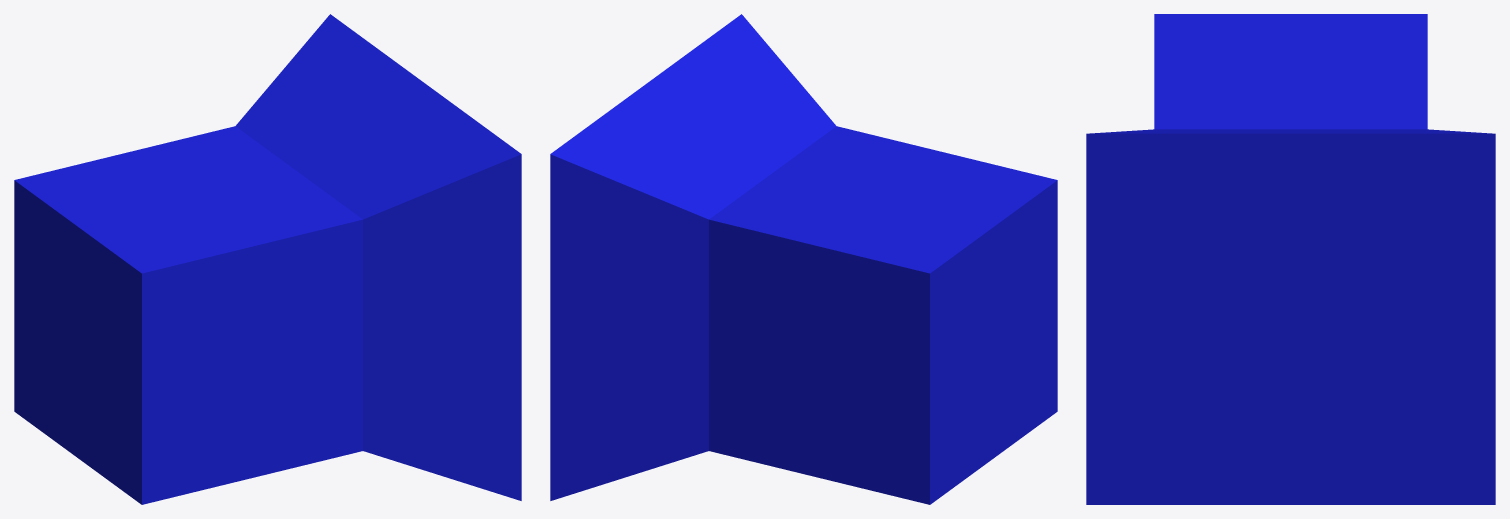
File: Speaker.obj
3 views of the same model, side by side, from view 1: azimuth 30°, elevation 25°; view 2: azimuth 150°, elevation 25°; view 3: azimuth 270°, elevation 25° (orthographic). The views are drawn at different scales.
Parts seen in each view (by area): view 1: Cube.001, Cube; view 2: Cube.001, Cube; view 3: Cube, Cube.001.
Boxes of the visible parts, x1,y1,x2,y2 form: Cube.001: (14, 126, 362, 504); Cube: (235, 14, 521, 500); Cube.001: (709, 126, 1057, 504); Cube: (550, 14, 836, 500); Cube: (1086, 129, 1495, 504); Cube.001: (1154, 14, 1427, 129).
Bounding box in the file's own units: 1.57 × 1.5 × 1.5.
Materials: 2 (2 with a texture image).
